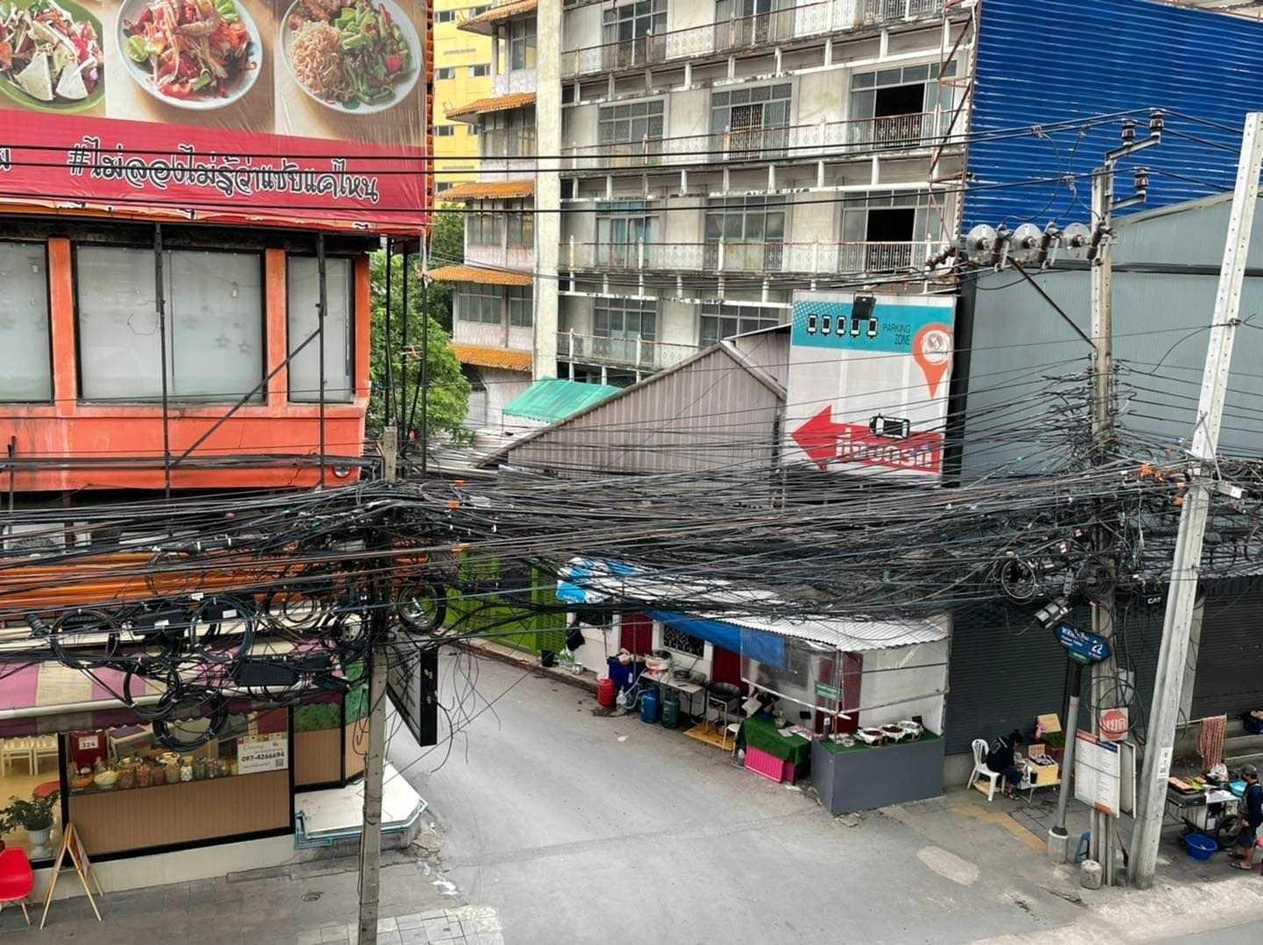wires: (4, 447, 1181, 649)
